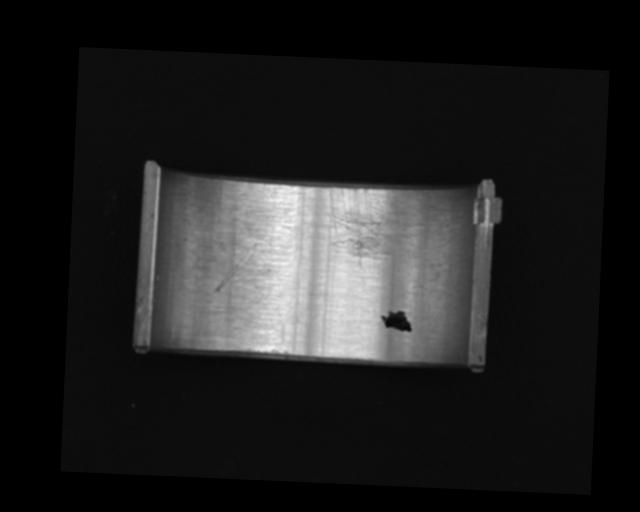blot: (378, 309, 413, 333)
nick: (212, 241, 254, 294)
scratch: (326, 182, 436, 269)
